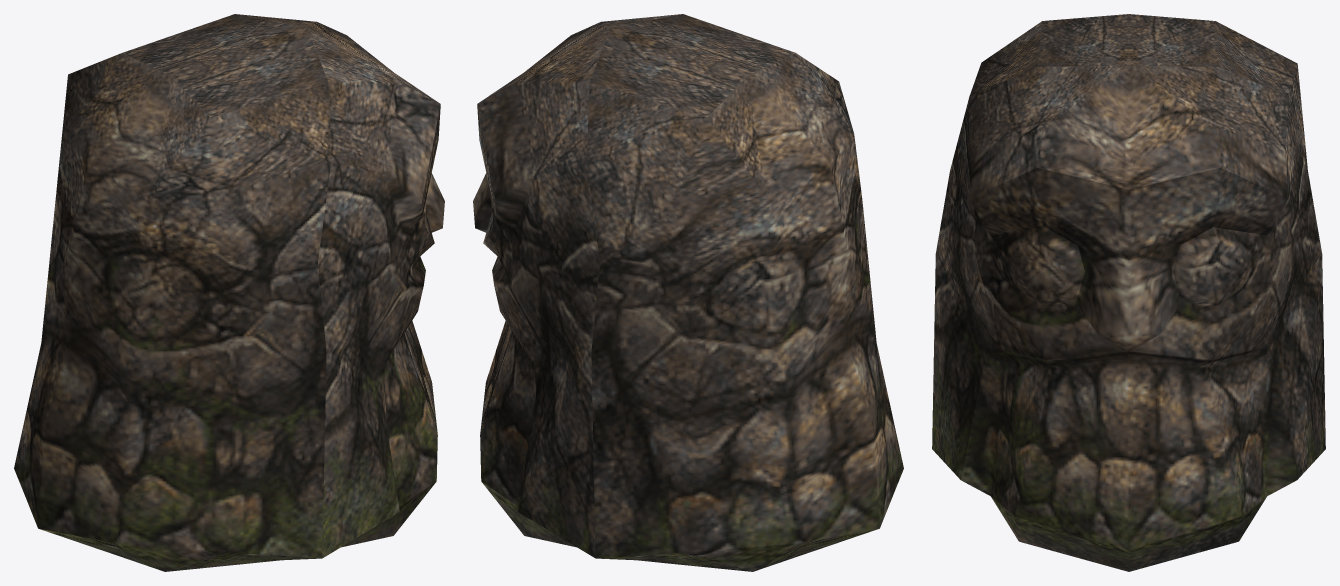
3 views of the same model, side by side, from view 1: azimuth 30°, elevation 25°; view 2: azimuth 150°, elevation 25°; view 3: azimuth 270°, elevation 25° (orthographic). The views are drawn at different scales.
Parts seen in each view (by area): view 1: wj024; view 2: wj024; view 3: wj024.
Boxes of the visible parts, bbox=[...] form: wj024: bbox=[14, 14, 444, 571]; wj024: bbox=[473, 14, 903, 571]; wj024: bbox=[932, 14, 1325, 571].
Bounding box in the file's own units: 1146 × 1373 × 986.
